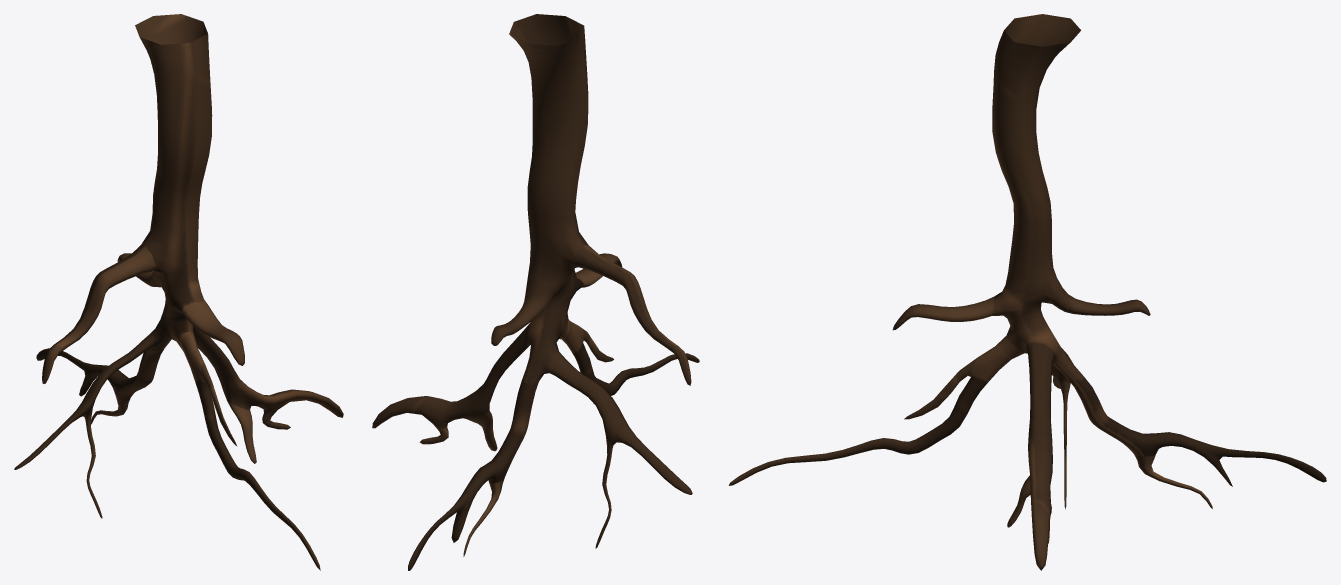
The model's file is Tree.obj.
3 views of the same model, side by side, from view 1: azimuth 30°, elevation 25°; view 2: azimuth 150°, elevation 25°; view 3: azimuth 270°, elevation 25° (orthographic). The views are drawn at different scales.
Parts seen in each view (by area): view 1: Joined__0; view 2: Joined__0; view 3: Joined__0.
Boxes of the visible parts, x1=… form: Joined__0: x1=14, y1=14, x2=343, y2=570; Joined__0: x1=372, y1=14, x2=699, y2=570; Joined__0: x1=728, y1=14, x2=1326, y2=570.
Bounding box in the file's own units: 230 × 331 × 352.
